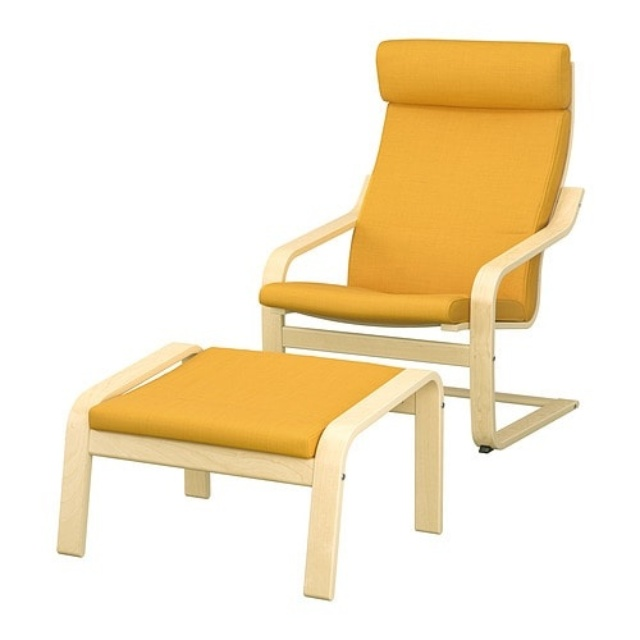obstacle: (260, 40, 581, 451), (58, 343, 442, 598)
